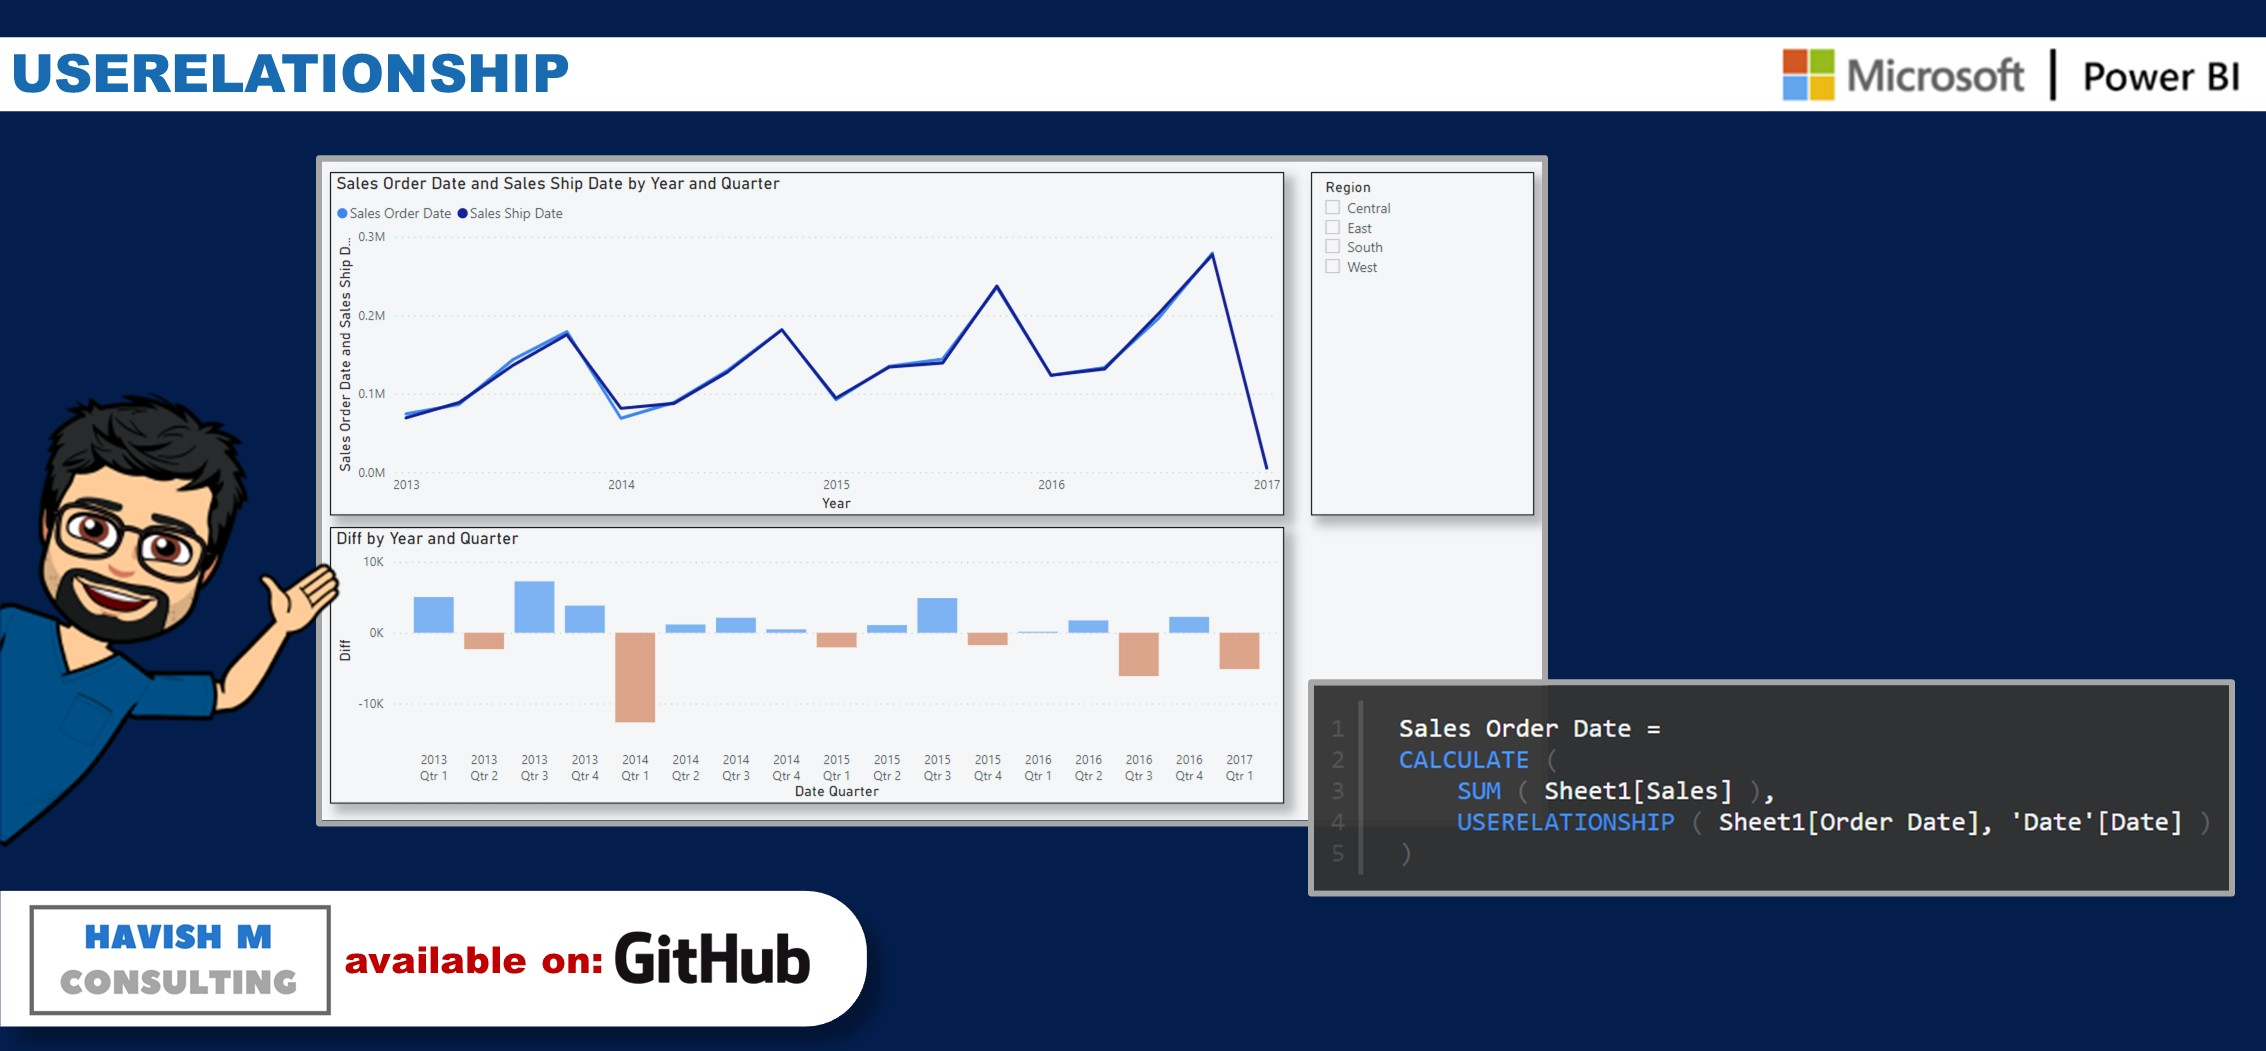

The page's visual inventory and layout, read from the dashboard file:
{"tool":"powerbi","page":{"name":"Page 1","canvas":[1280,720],"ordinal":0},"visuals":[{"type":"lineChart","fields":{"Category":["DateTable.Date.Variation.Date Hierarchy.Year","DateTable.Date.Variation.Date Hierarchy.Quarter","DateTable.Date.Variation.Date Hierarchy.Month","DateTable.Date.Variation.Date Hierarchy.Day"],"Y":["DateTable.OrderDateSales","DateTable.ShipDateSales"]},"box":[204.4,31.8,871.2,279.8],"z":0},{"type":"columnChart","fields":{"Category":["DateTable.Date.Variation.Date Hierarchy.Year","DateTable.Date.Variation.Date Hierarchy.Quarter","DateTable.Date.Variation.Date Hierarchy.Month","DateTable.Date.Variation.Date Hierarchy.Day"],"Y":["DateTable.Diff"]},"box":[204.4,360.2,871.2,279.8],"z":1}]}

Visuals, with their boxes in screenshot pixels (x1, y1, x2, y2):
lineChart - DateTable.Date.Variation.Date Hierarchy.Year x DateTable.Date.Variation.Date Hierarchy.Quarter: 319, 38, 1528, 427
columnChart - DateTable.Date.Variation.Date Hierarchy.Year x DateTable.Date.Variation.Date Hierarchy.Quarter: 319, 494, 1528, 882
